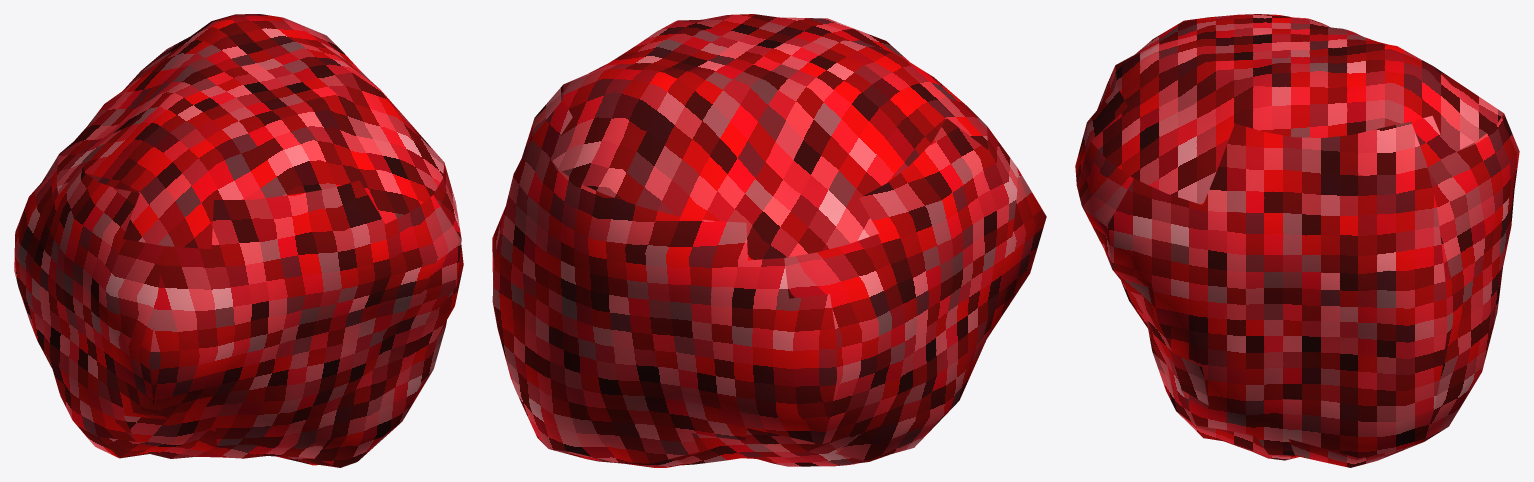
The model's file is meteor.glb.
3 views of the same model, side by side, from view 1: azimuth 30°, elevation 25°; view 2: azimuth 150°, elevation 25°; view 3: azimuth 270°, elevation 25° (orthographic). The views are drawn at different scales.
Visible parts, largest first — view 1: Landscape.001; view 2: Landscape.001; view 3: Landscape.001.
Part boxes in pixels (<box>): Landscape.001: <box>14,14,463,467</box>; Landscape.001: <box>492,14,1046,467</box>; Landscape.001: <box>1075,14,1519,467</box>.
Bounding box in the file's own units: 2.84 × 2.9 × 2.96.
1 material, 1 textured.
